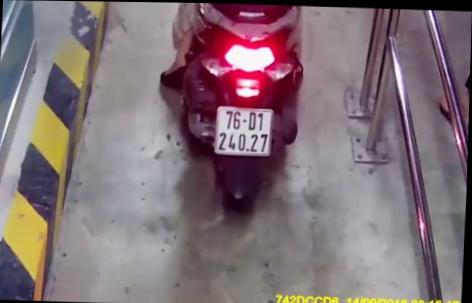LP: (213, 104, 275, 157)
